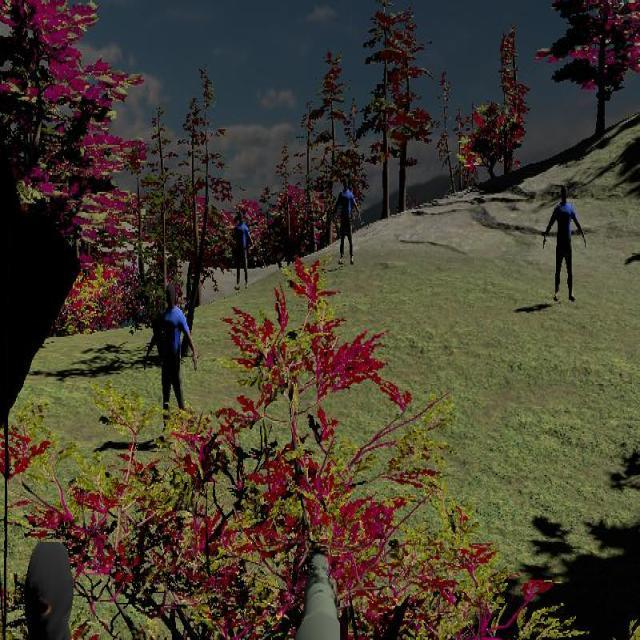Human: (145, 283, 197, 439), (543, 184, 586, 303), (331, 175, 362, 266)
